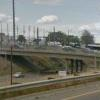Bridge: (4, 39, 95, 70)
